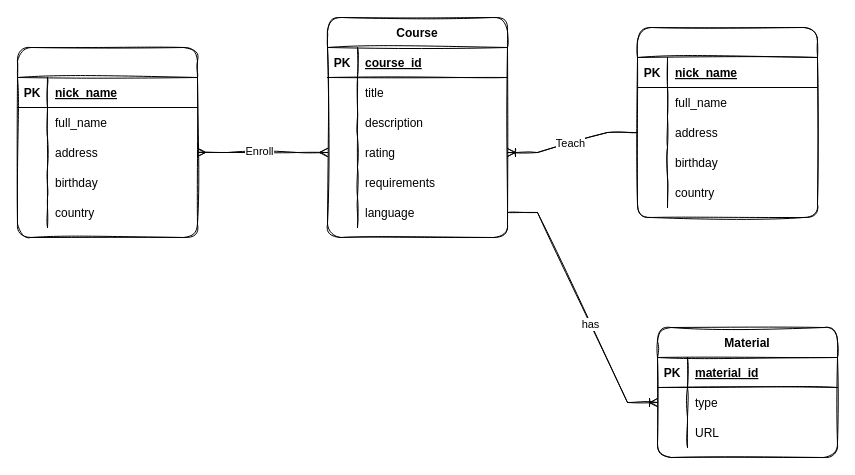
Some shapes in this 855 by 475 pixel diagram are drawn without their labels. Each missing label, with the box of its shape:
Instructor: (636, 26, 818, 218)
Student: (16, 46, 198, 238)
